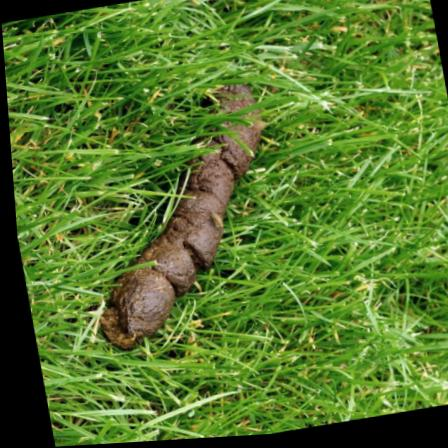dog-poop: (61, 68, 318, 354)
